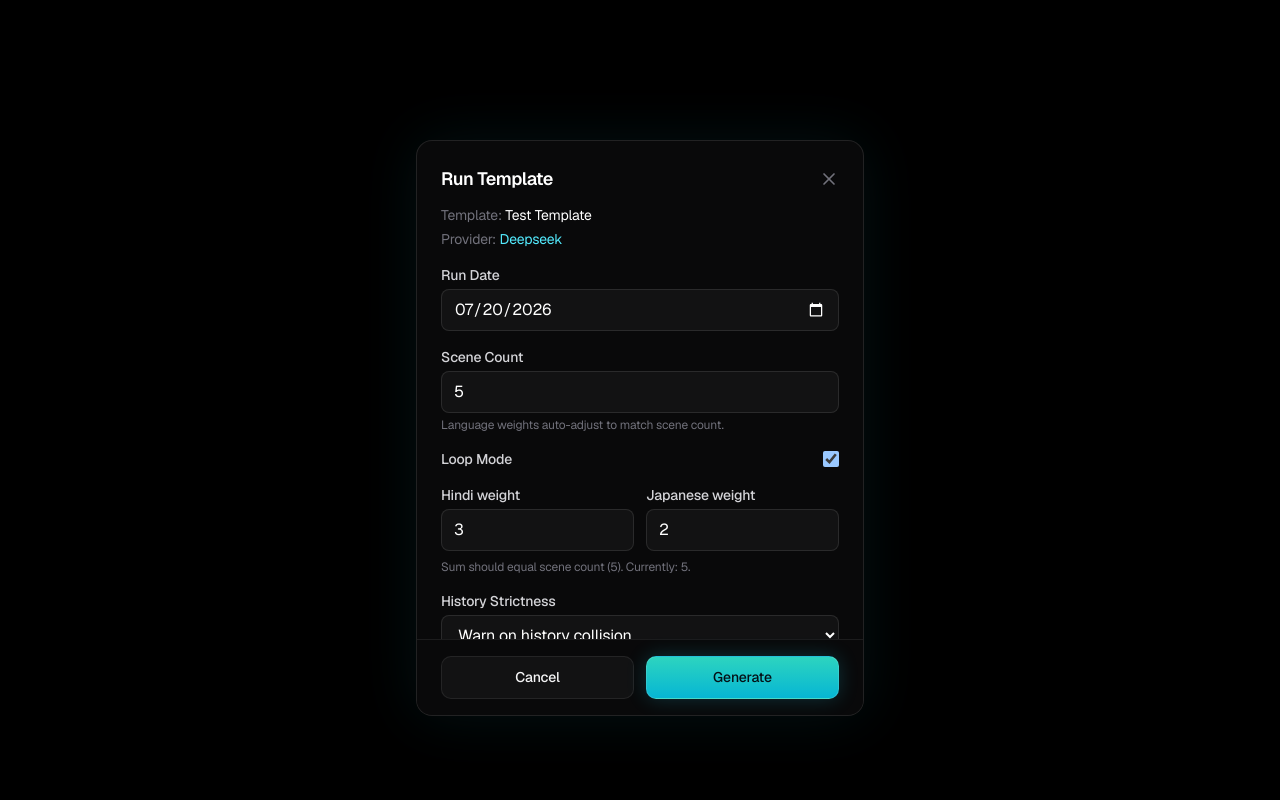
Test: RunModal › Form Validation › prevents scene count above 10
Step 1. Replace the text in the number field labelled "Scene Count" with "15" → (640, 392), box 441,371 -> 839,413
(page scrolled)
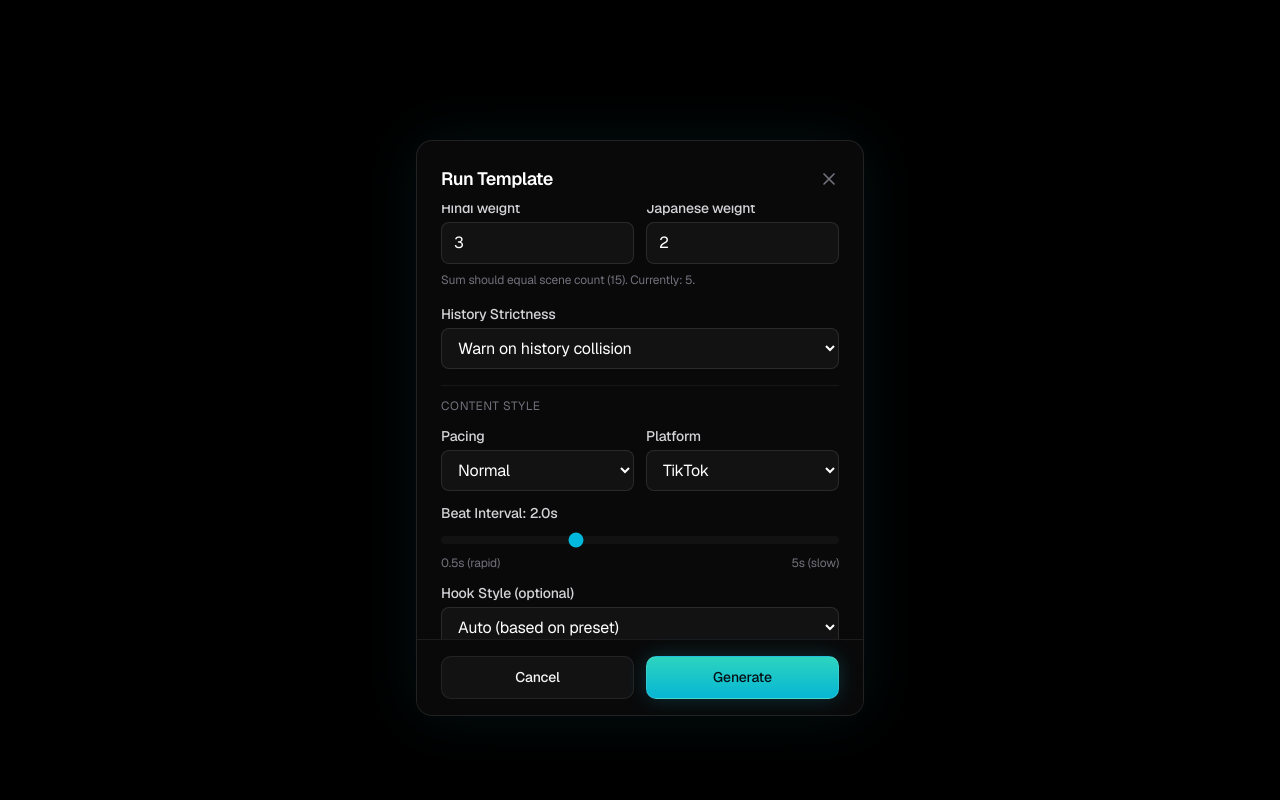
Step 2. Submit the form labelled "Scene Count"
(page scrolled)
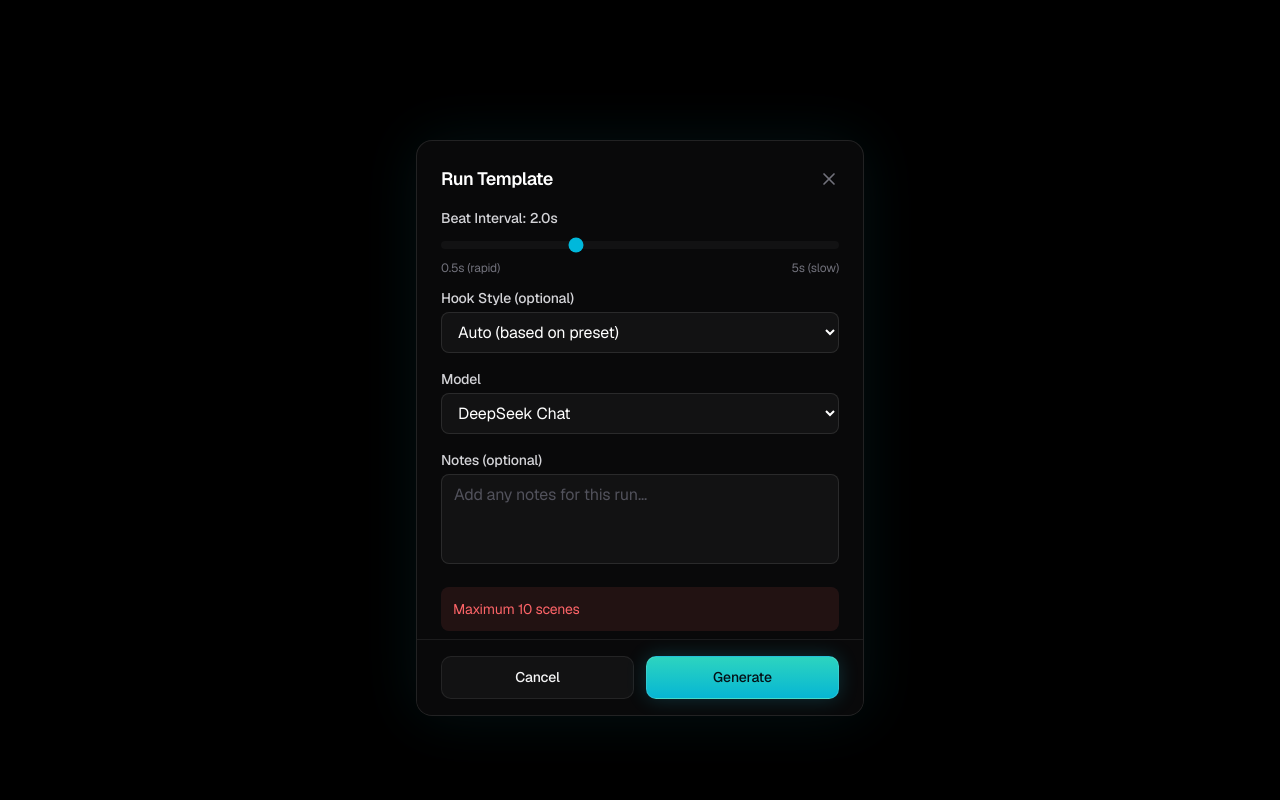
Expected: the text "Maximum 10 scenes" is shown, 441,587 -> 839,631
